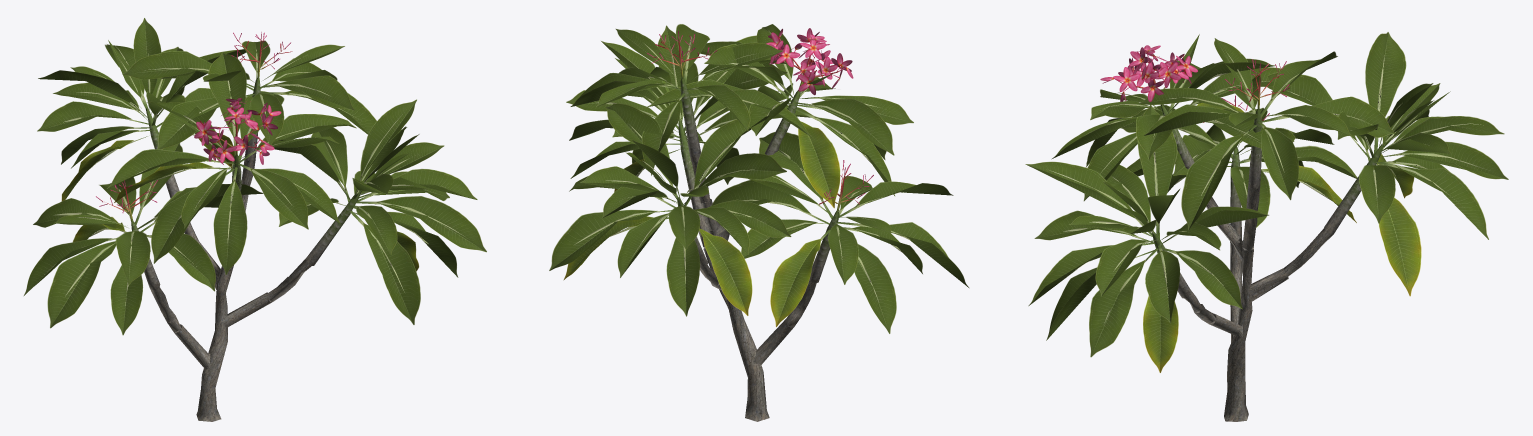
The model's file is cay-dai.glb.
3 renders of one model, left to right at view 1: azimuth 30°, elevation 25°; view 2: azimuth 150°, elevation 25°; view 3: azimuth 270°, elevation 25°, orthographic. The views are drawn at different scales.
Parts seen in each view (by area): view 1: Plumeria_rubra_pink_HD_Plumeria rub leaf 01_0, Plumeria_rubra_pink_HD_Plumeria bark_0, Plumeria_rubra_pink_HD_Plumeria leaf stalk_0, Plumeria_rubra_pink_HD_Plumeria rub leaf 01 F1_0, Plumeria_rubra_pink_HD_Plumeria petal_0, Plumeria_rubra_pink_HD_Material_0, Plumeria_rubra_pink_HD_Flower stalk 01_0, Plumeria_rubra_pink_HD_Plumeria recept_0; view 2: Plumeria_rubra_pink_HD_Plumeria rub leaf 01_0, Plumeria_rubra_pink_HD_Plumeria rub leaf 01 F1_0, Plumeria_rubra_pink_HD_Plumeria leaf stalk_0, Plumeria_rubra_pink_HD_Plumeria bark_0, Plumeria_rubra_pink_HD_Material_0, Plumeria_rubra_pink_HD_Plumeria petal_0, Plumeria_rubra_pink_HD_Flower stalk 01_0, Plumeria_rubra_pink_HD_Plumeria recept_0; view 3: Plumeria_rubra_pink_HD_Plumeria rub leaf 01_0, Plumeria_rubra_pink_HD_Plumeria bark_0, Plumeria_rubra_pink_HD_Plumeria rub leaf 01 F1_0, Plumeria_rubra_pink_HD_Plumeria leaf stalk_0, Plumeria_rubra_pink_HD_Material_0, Plumeria_rubra_pink_HD_Plumeria petal_0.
Part boxes in pixels (x1=…): Plumeria_rubra_pink_HD_Plumeria rub leaf 01_0: x1=23, y1=18, x2=486, y2=335; Plumeria_rubra_pink_HD_Plumeria bark_0: x1=151, y1=159, x2=311, y2=421; Plumeria_rubra_pink_HD_Plumeria leaf stalk_0: x1=44, y1=45, x2=464, y2=305; Plumeria_rubra_pink_HD_Plumeria rub leaf 01 F1_0: x1=61, y1=132, x2=419, y2=271; Plumeria_rubra_pink_HD_Plumeria petal_0: x1=194, y1=98, x2=281, y2=164; Plumeria_rubra_pink_HD_Material_0: x1=131, y1=80, x2=361, y2=290; Plumeria_rubra_pink_HD_Flower stalk 01_0: x1=107, y1=40, x2=292, y2=225; Plumeria_rubra_pink_HD_Plumeria recept_0: x1=96, y1=32, x2=290, y2=212; Plumeria_rubra_pink_HD_Plumeria rub leaf 01_0: x1=549, y1=24, x2=969, y2=333; Plumeria_rubra_pink_HD_Plumeria rub leaf 01 F1_0: x1=563, y1=121, x2=840, y2=326; Plumeria_rubra_pink_HD_Plumeria leaf stalk_0: x1=574, y1=30, x2=910, y2=301; Plumeria_rubra_pink_HD_Plumeria bark_0: x1=692, y1=162, x2=816, y2=421; Plumeria_rubra_pink_HD_Material_0: x1=677, y1=81, x2=839, y2=283; Plumeria_rubra_pink_HD_Plumeria petal_0: x1=766, y1=28, x2=853, y2=95; Plumeria_rubra_pink_HD_Flower stalk 01_0: x1=655, y1=40, x2=862, y2=214; Plumeria_rubra_pink_HD_Plumeria recept_0: x1=647, y1=31, x2=873, y2=204; Plumeria_rubra_pink_HD_Plumeria rub leaf 01_0: x1=1025, y1=32, x2=1508, y2=357; Plumeria_rubra_pink_HD_Plumeria bark_0: x1=1184, y1=186, x2=1332, y2=421; Plumeria_rubra_pink_HD_Plumeria rub leaf 01 F1_0: x1=1143, y1=102, x2=1421, y2=372; Plumeria_rubra_pink_HD_Plumeria leaf stalk_0: x1=1049, y1=52, x2=1486, y2=323; Plumeria_rubra_pink_HD_Material_0: x1=1152, y1=107, x2=1383, y2=298; Plumeria_rubra_pink_HD_Plumeria petal_0: x1=1100, y1=45, x2=1197, y2=101.
Bounding box in the file's own units: 1 × 0.8247 × 0.969.
Materials: 9 (9 with a texture image).
